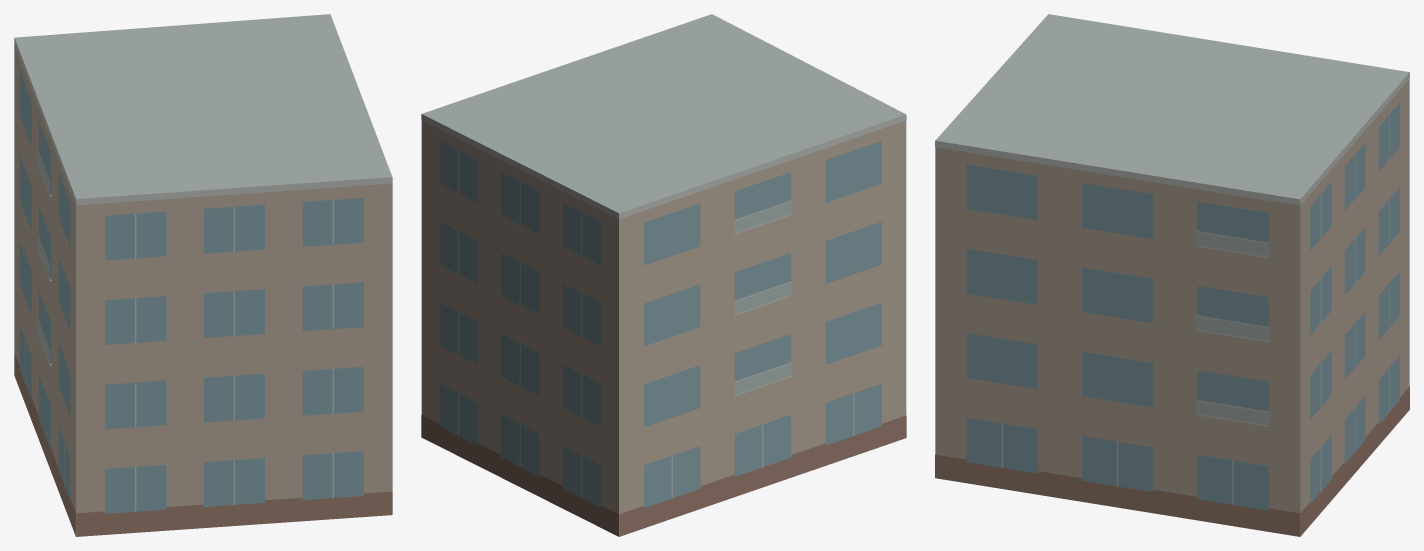
The model's file is survey-upis-32528419.glb.
The picture shows the model from 3 angles, left to right: view 1: azimuth 30°, elevation 25°; view 2: azimuth 150°, elevation 25°; view 3: azimuth 270°, elevation 25°; orthographic projection. The views are drawn at different scales.
Parts seen in each view (by area): view 1: survey-upis-32528419.tmp; view 2: survey-upis-32528419.tmp; view 3: survey-upis-32528419.tmp.
Boxes of the visible parts, <box> form: survey-upis-32528419.tmp: <box>14,14,392,536</box>; survey-upis-32528419.tmp: <box>421,14,906,536</box>; survey-upis-32528419.tmp: <box>935,14,1409,536</box>.
Bounding box in the file's own units: 15.28 × 12.96 × 16.53.
